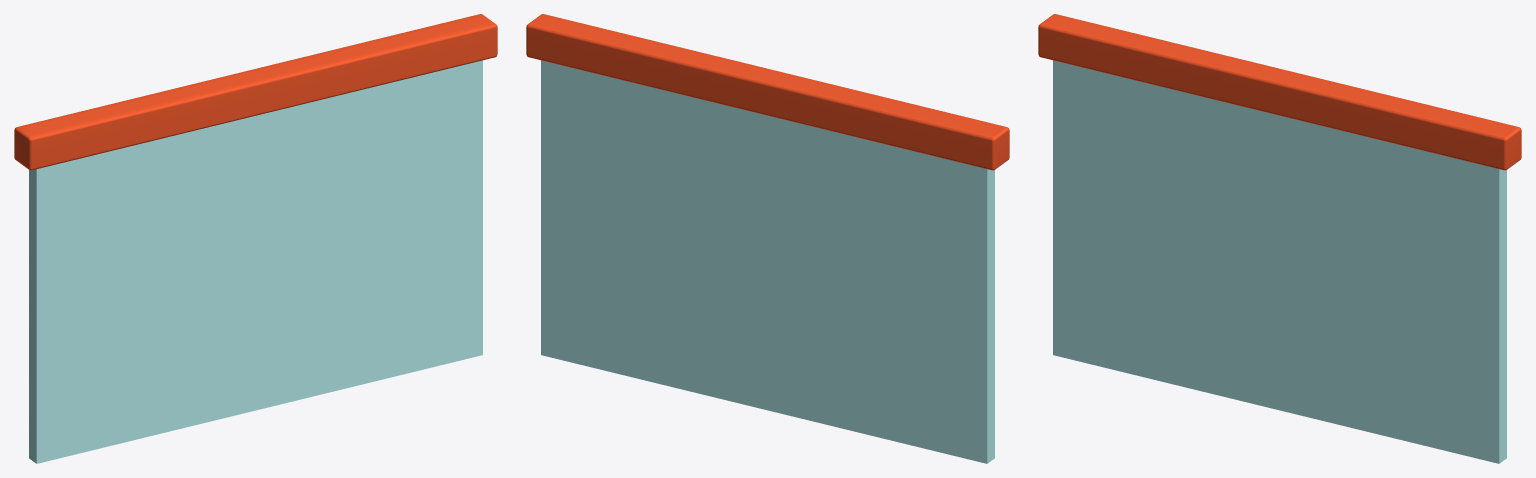
File: glassline.fbx
3 views of the same model, side by side, from view 1: azimuth 30°, elevation 25°; view 2: azimuth 150°, elevation 25°; view 3: azimuth 330°, elevation 25° (orthographic).
Parts seen in each view (by area): view 1: glassline; view 2: glassline; view 3: glassline.
Part boxes in pixels (x1,y1,x2,y2): glassline: (14, 14, 497, 463); glassline: (526, 14, 1009, 463); glassline: (1038, 14, 1521, 463).
Bounding box in the file's own units: 11.81 × 7.97 × 0.7244.
